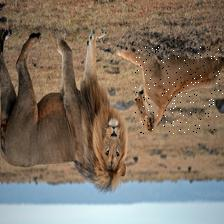Lion: (2, 34, 130, 196), (136, 47, 224, 135)
